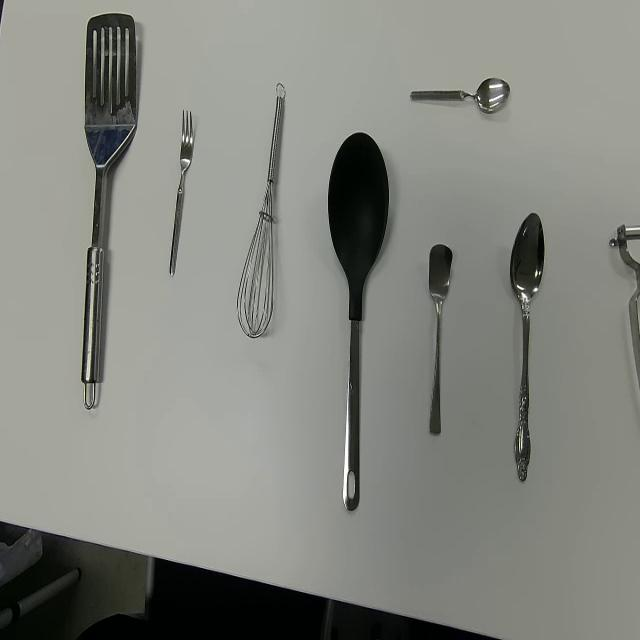Desert-Spoon: (509, 211, 545, 485)
Dinner-Fork: (168, 108, 194, 278)
Peeler: (608, 222, 640, 399)
Serving-Spoon: (327, 130, 390, 514), (80, 12, 138, 410)
Tea-Spoon: (428, 242, 453, 436), (410, 75, 510, 115)
Whisk: (236, 81, 286, 338)
